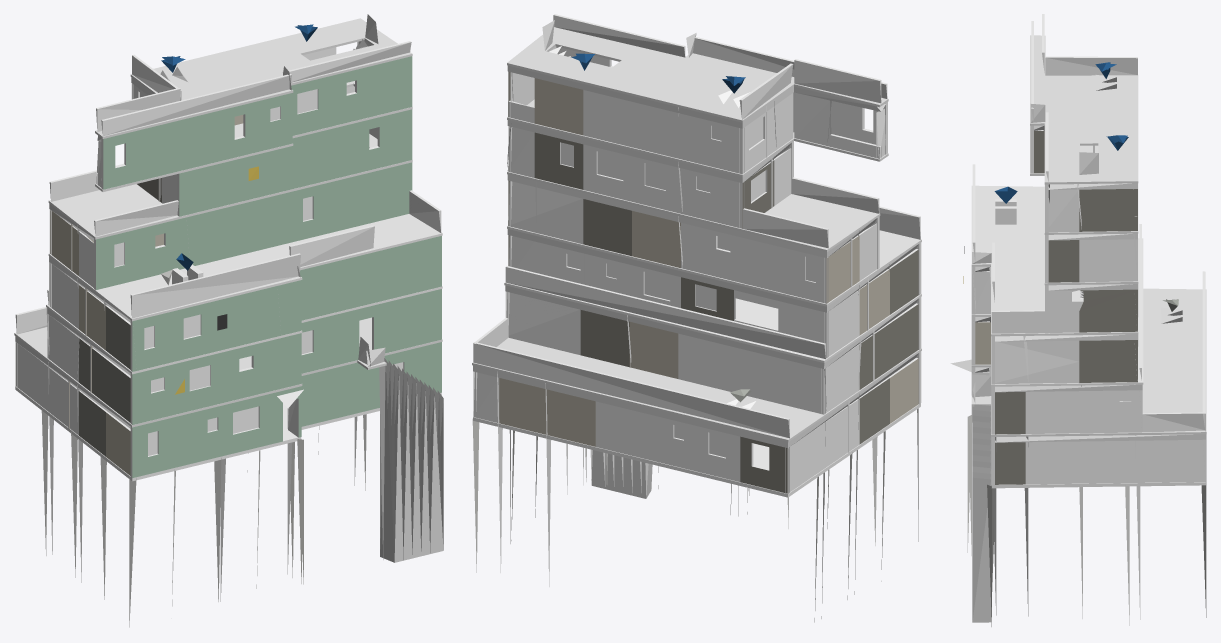
3 renders of one model, left to right at view 1: azimuth 30°, elevation 25°; view 2: azimuth 150°, elevation 25°; view 3: azimuth 270°, elevation 25°, orthographic. The views are drawn at different scales.
Visible parts, largest first — view 1: F_45; view 2: F_45; view 3: F_45.
Part boxes in pixels (bbox=[...]): F_45: bbox=[14, 14, 443, 627]; F_45: bbox=[472, 14, 921, 622]; F_45: bbox=[950, 14, 1206, 626].
Bounding box in the file's own units: 18.03 × 26.6 × 13.15.
